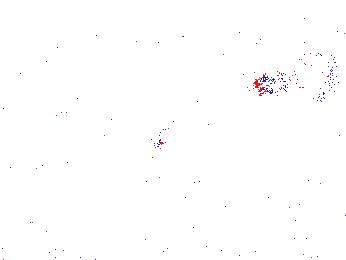flame jellyfish: (254, 48, 341, 104), (244, 173, 315, 227), (130, 114, 174, 163)
